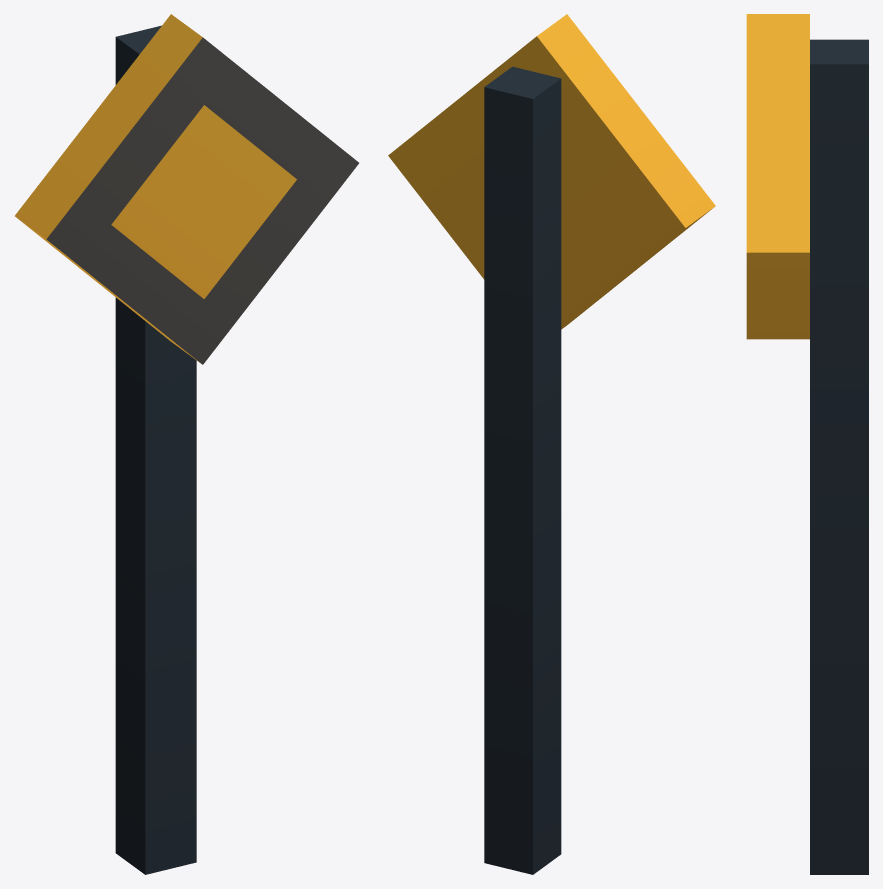
The model's file is Road_sign_2.fbx.
3 renders of one model, left to right at view 1: azimuth 30°, elevation 25°; view 2: azimuth 150°, elevation 25°; view 3: azimuth 270°, elevation 25°, orthographic. The views are drawn at different scales.
Parts seen in each view (by area): view 1: Road_sign_2; view 2: Road_sign_2; view 3: Road_sign_2.
Part boxes in pixels (left/top/right/bottom): Road_sign_2: left=15, top=14, right=358, bottom=874; Road_sign_2: left=388, top=14, right=715, bottom=874; Road_sign_2: left=746, top=14, right=868, bottom=874.
Size of the model in its own units: 144 by 376 by 50.12.
